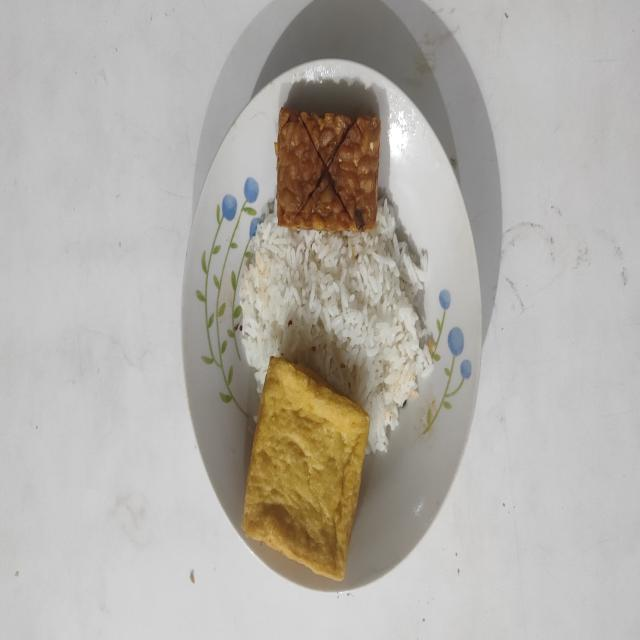nasi_putih: (239, 198, 432, 452)
tahu_goreng: (242, 357, 370, 580)
tempe_goreng: (276, 107, 381, 230)
